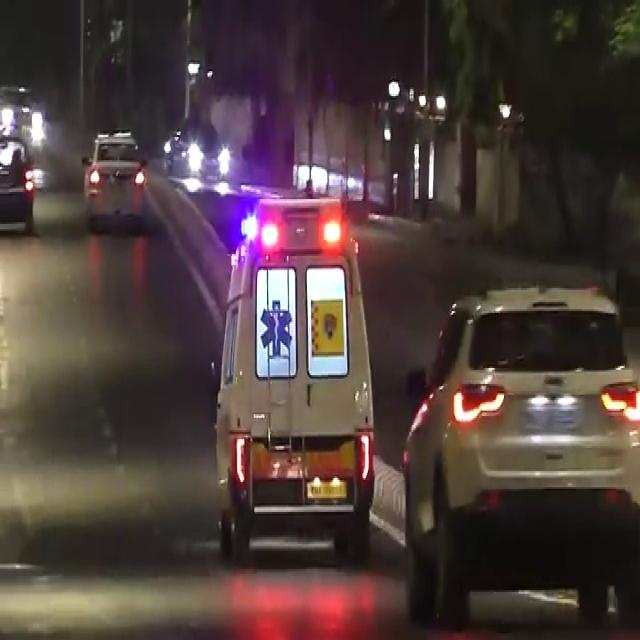ambulance: (212, 149, 378, 559)
